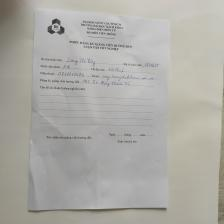Paper: (26, 8, 169, 211)
